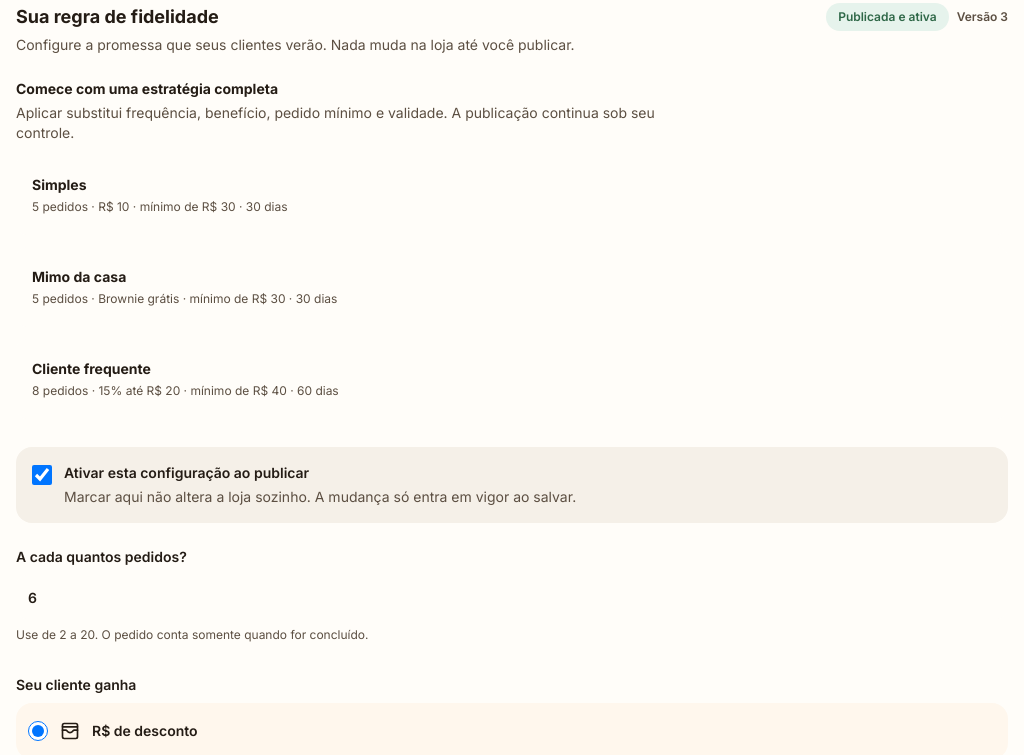
Scenario: configuração de fidelidade › mostra erro junto ao campo e não publica dados inválidos
The width and height of the screenshot is (1024, 755).
Replace the text in the number field labelled "A cada quantos pedidos?" with "1" at (512, 597), box x1=16 y1=575 x2=1008 y2=619
(page scrolled)
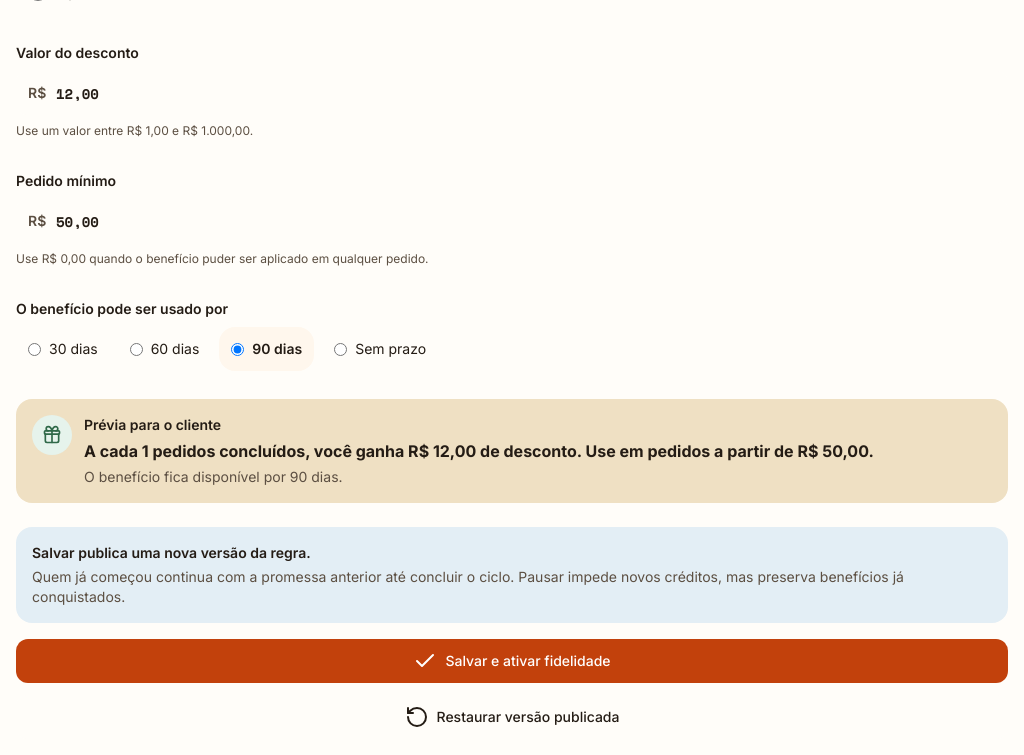
Click the button "Salvar e ativar fidelidade" at (512, 661), box x1=16 y1=639 x2=1008 y2=683
(page scrolled)
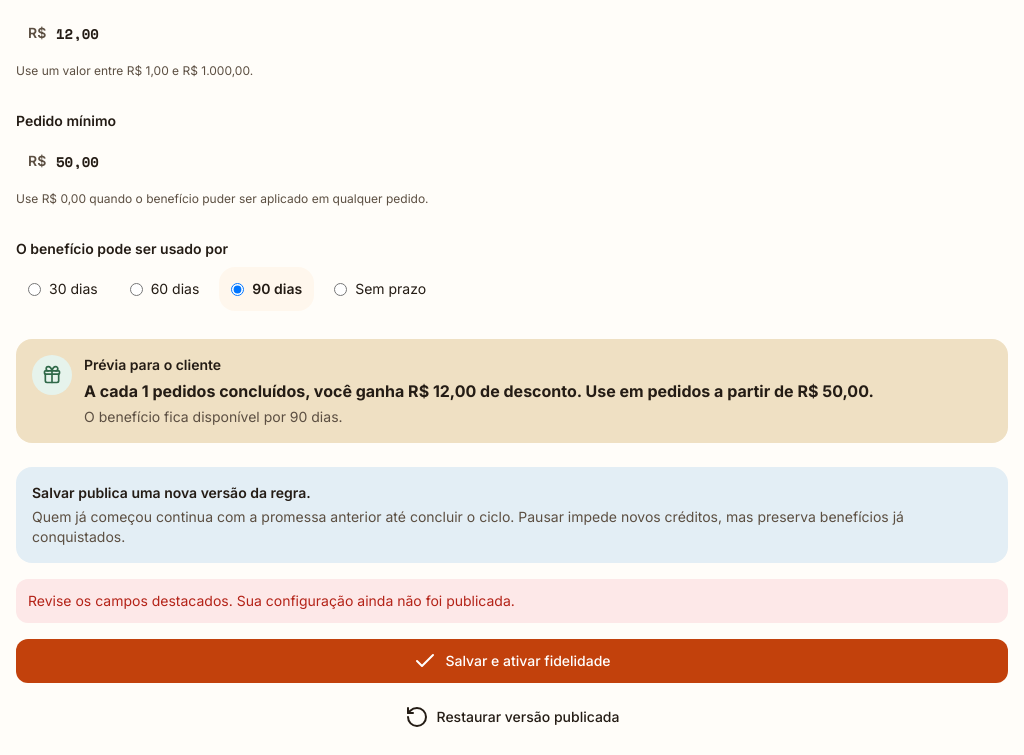
expect the message shows "ainda não foi publicada": met, box x1=28 y1=592 x2=515 y2=609
